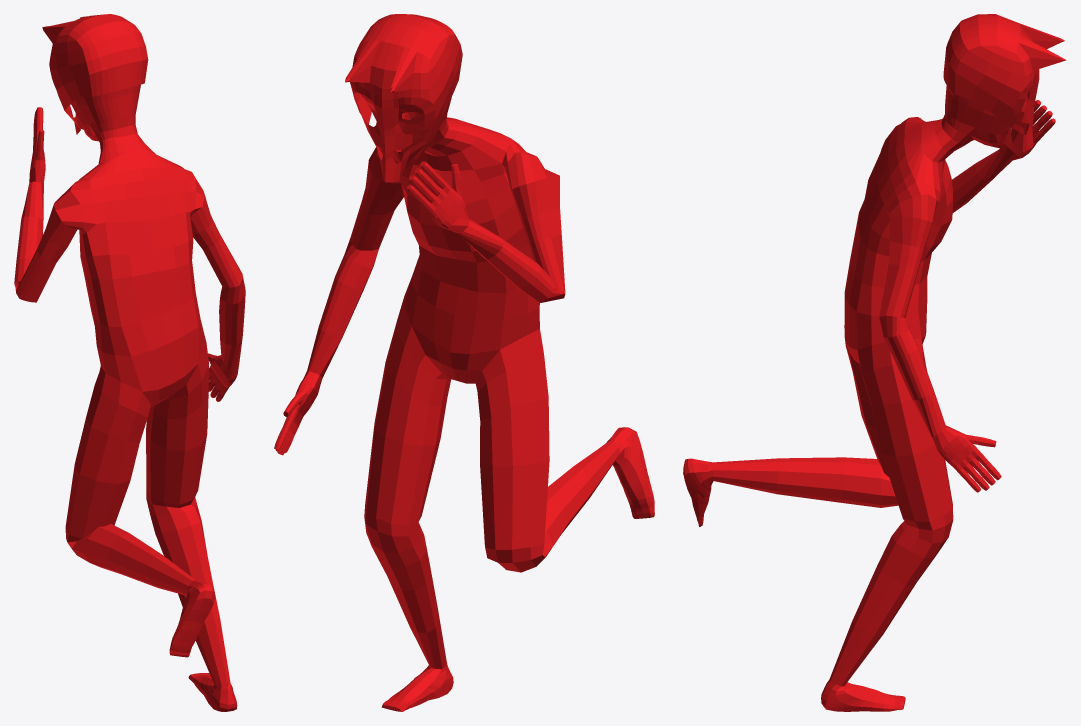
The model's file is correrE_000107.obj.
3 views of the same model, side by side, from view 1: azimuth 30°, elevation 25°; view 2: azimuth 150°, elevation 25°; view 3: azimuth 270°, elevation 25° (orthographic). The views are drawn at different scales.
Visible parts, largest first — view 1: Plane.002_Plane.001; view 2: Plane.002_Plane.001; view 3: Plane.002_Plane.001.
Boxes of the visible parts, x1=… form: Plane.002_Plane.001: x1=14, y1=14, x2=245, y2=711; Plane.002_Plane.001: x1=274, y1=14, x2=654, y2=711; Plane.002_Plane.001: x1=683, y1=14, x2=1066, y2=711.
Size of the model in its own units: 2.38 by 6.55 by 3.43.
